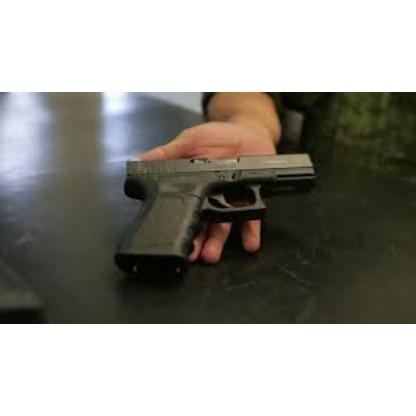gun: (117, 149, 314, 273)
